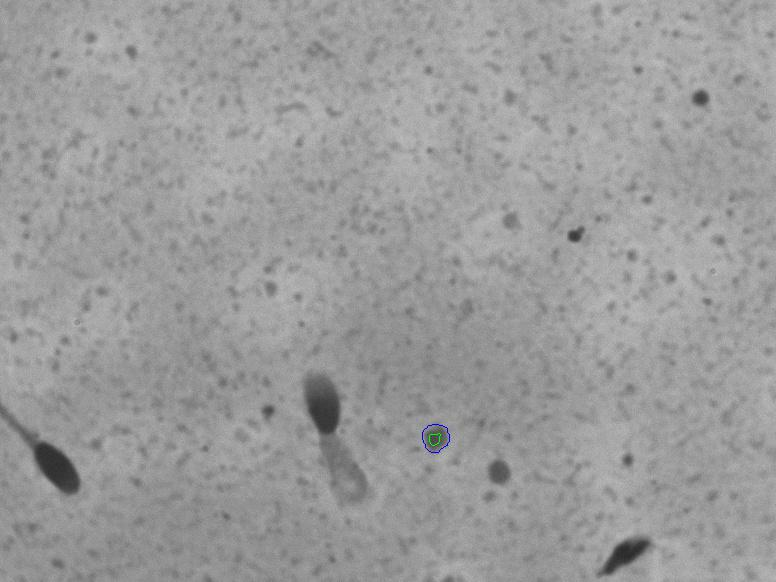Abnormal: (272, 337, 403, 534)
